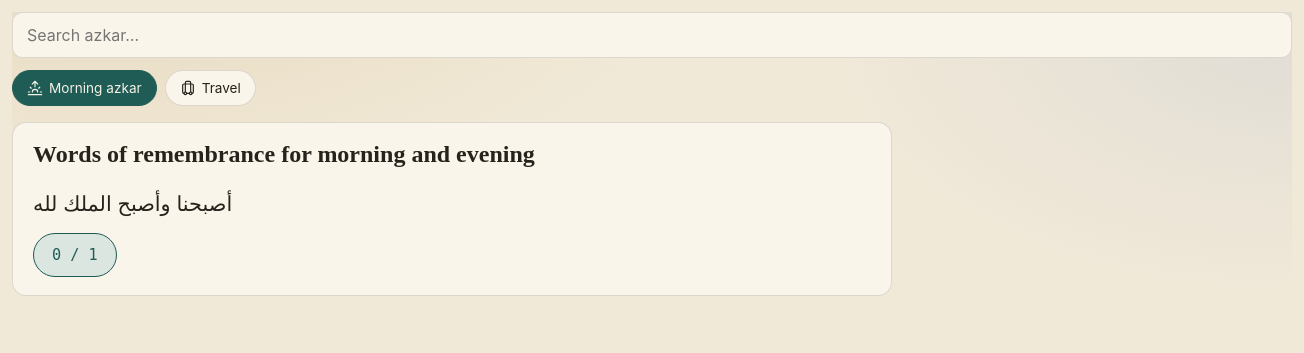
Test: AzkarBrowser › lists a multi-category section's categories, skipping empty ones, and opens one with a way back
Click the tab "Travel": click(210, 88) x1=165 y1=70 x2=256 y2=106
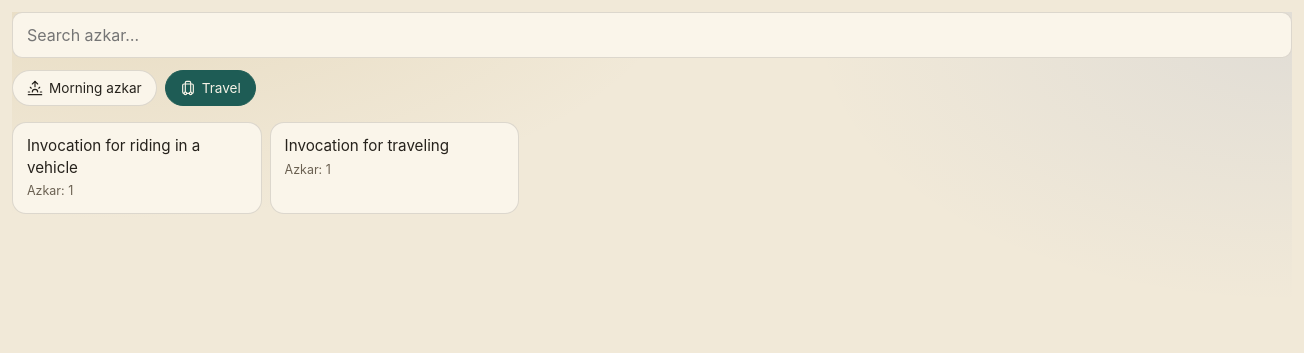
Expected: the buttons read "Invocation for riding in a vehicleAzkar: 1", "Invocation for travelingAzkar: 1", in this order
Click the button "Invocation for traveling Azkar: 1": click(394, 168) x1=270 y1=122 x2=519 y2=214
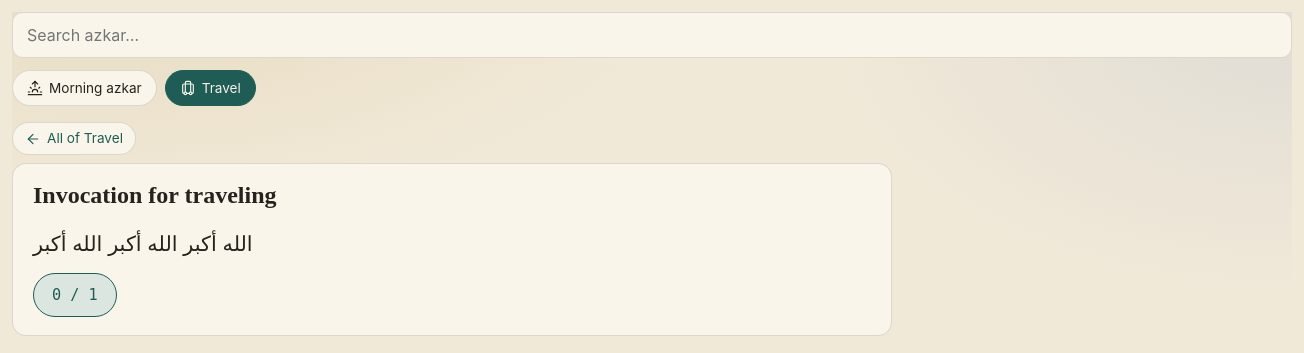
Expected: the text "الله أكبر الله أكبر الله أكبر" is shown, x1=33 y1=232 x2=253 y2=255
Click the button "All of Travel": click(74, 139) x1=12 y1=122 x2=136 y2=155
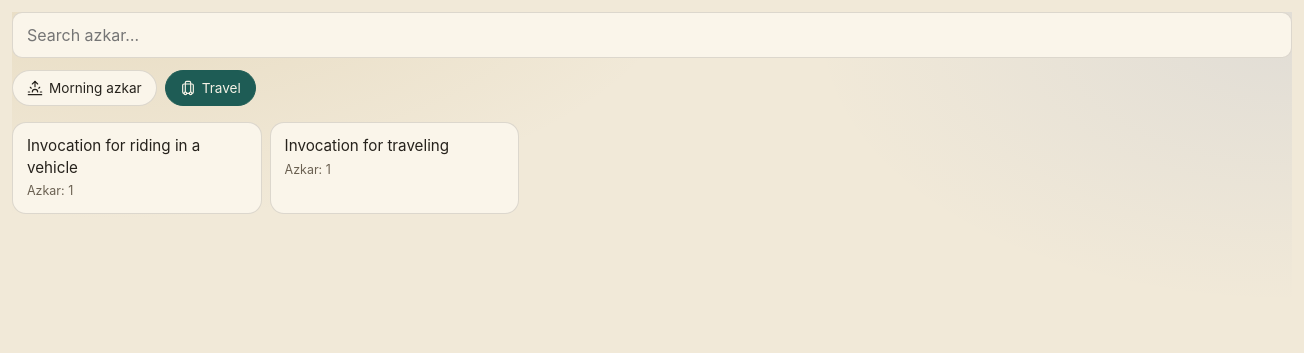
Expected: the number of buttons "Invocation for riding in a vehicle Azkar: 1" is 2, x1=12 y1=122 x2=262 y2=214; x1=270 y1=122 x2=519 y2=214
